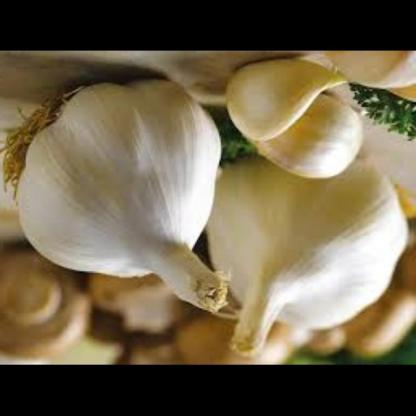garlic: (3, 76, 234, 321), (194, 151, 412, 362), (233, 89, 372, 178), (220, 56, 358, 134), (319, 52, 416, 104)
